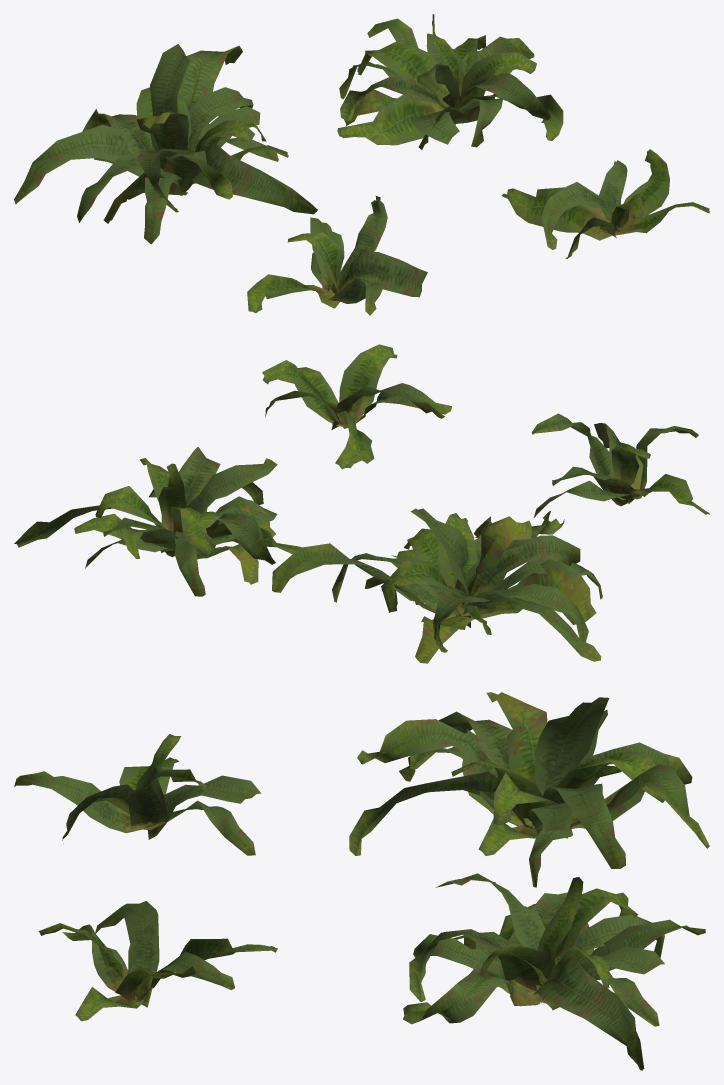
Rendered from fern_02-high.glb.
The picture shows the model from 3 angles, top to bottom: view 1: azimuth 30°, elevation 25°; view 2: azimuth 150°, elevation 25°; view 3: azimuth 270°, elevation 25°; orthographic projection. The views are drawn at different scales.
Parts seen in each view (by area): view 1: fern_02_b, fern_02_c, fern_02_a, fern_02_d; view 2: fern_02_b, fern_02_c, fern_02_d, fern_02_a; view 3: fern_02_b, fern_02_c, fern_02_a, fern_02_d.
Boxes of the visible parts, left/top/right/bottom form: fern_02_b: left=14, top=44, right=317, bottom=244; fern_02_c: left=337, top=14, right=563, bottom=149; fern_02_a: left=247, top=196, right=427, bottom=315; fern_02_d: left=502, top=149, right=709, bottom=258; fern_02_b: left=272, top=508, right=602, bottom=663; fern_02_c: left=14, top=447, right=301, bottom=596; fern_02_d: left=262, top=344, right=451, bottom=469; fern_02_a: left=531, top=413, right=709, bottom=517; fern_02_b: left=349, top=692, right=709, bottom=887; fern_02_c: left=403, top=873, right=705, bottom=1070; fern_02_a: left=14, top=734, right=261, bottom=855; fern_02_d: left=38, top=901, right=277, bottom=1021.
Size of the model in its own units: 1.97 by 0.4277 by 1.72.
1 material, 1 textured.
